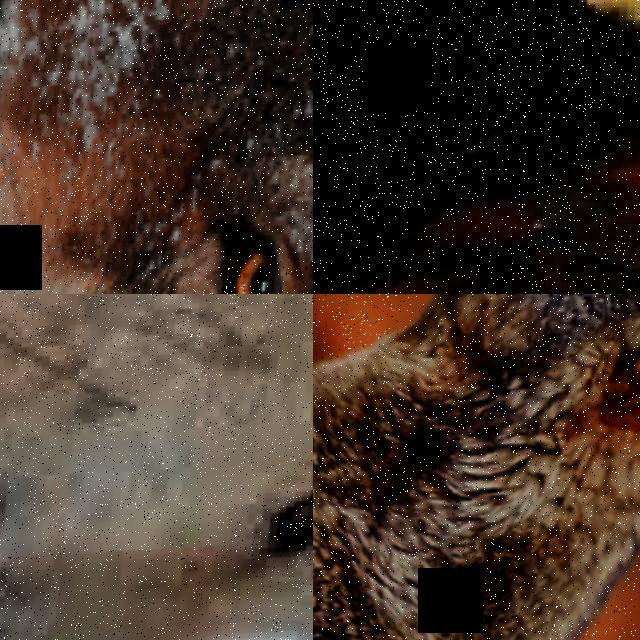dog: (313, 0, 640, 294)
wolf: (313, 294, 640, 640), (0, 294, 313, 640), (0, 0, 313, 294)
